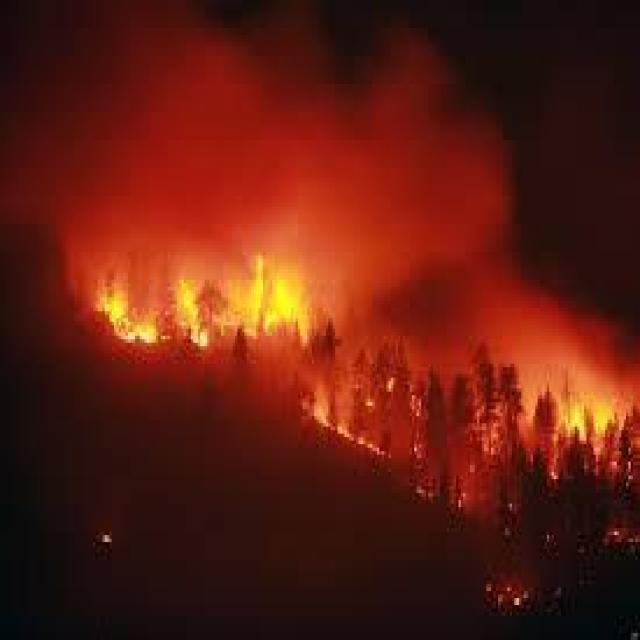Fire: (92, 272, 308, 344), (550, 378, 628, 458), (309, 404, 384, 459)
Smoke: (2, 2, 514, 274), (470, 271, 640, 382)
